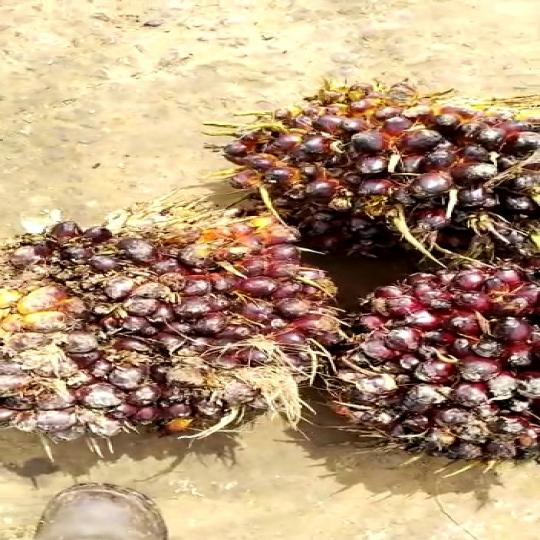kurang masak: (0, 188, 328, 451), (222, 80, 540, 272), (310, 252, 540, 478)
